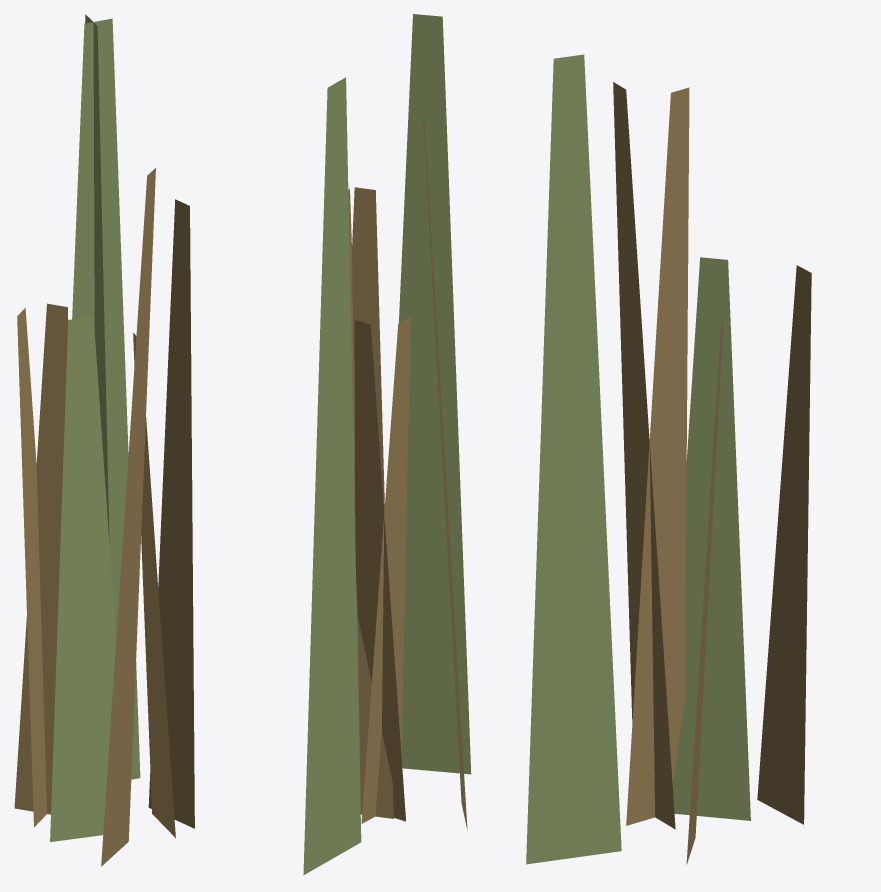
The model's file is shui.pucao@subadult__autumn.glb.
3 views of the same model, side by side, from view 1: azimuth 30°, elevation 25°; view 2: azimuth 150°, elevation 25°; view 3: azimuth 270°, elevation 25° (orthographic). The views are drawn at different scales.
Visible parts, largest first — view 1: shui.pucao@subadult__autumn; view 2: shui.pucao@subadult__autumn; view 3: shui.pucao@subadult__autumn.
Part boxes in pixels (x1,y1,x2,y2): shui.pucao@subadult__autumn: [14, 14, 194, 866]; shui.pucao@subadult__autumn: [303, 14, 471, 875]; shui.pucao@subadult__autumn: [526, 54, 811, 864].
Size of the model in its own units: 0.2395 by 1.16 by 0.4332.
